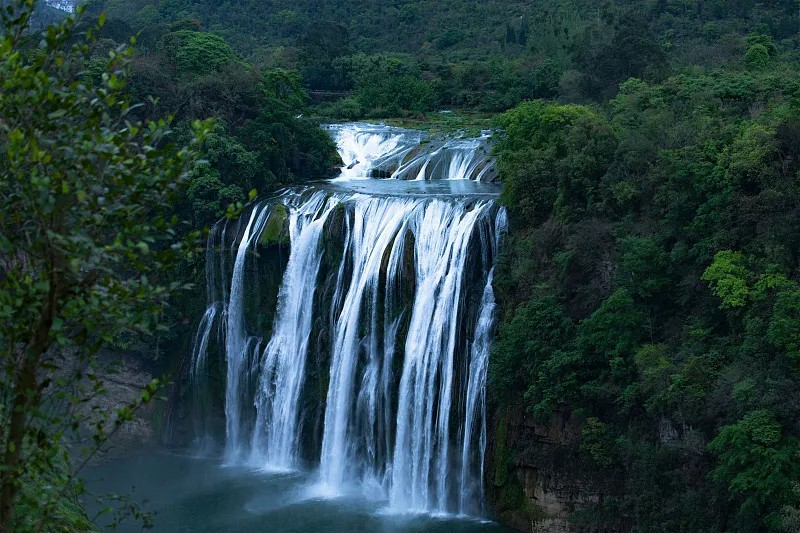Huangguoshu: (192, 122, 507, 517)
